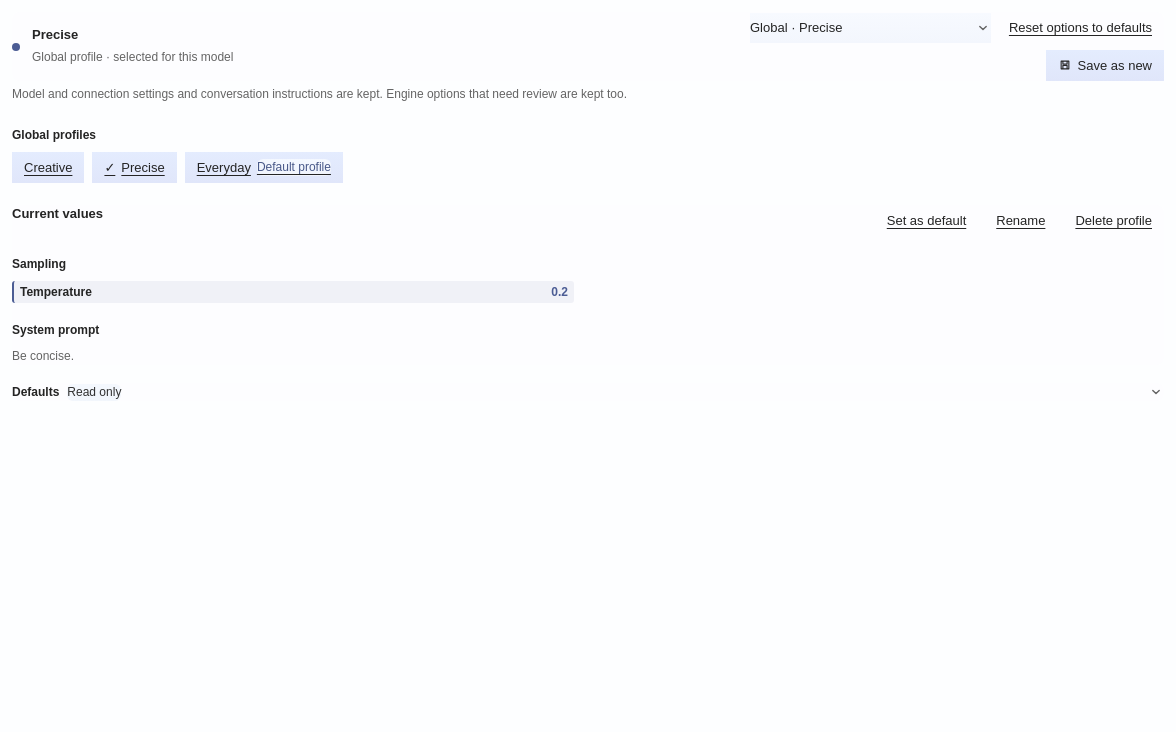
Scenario: settings profile workspace › keeps creation and profile selection distinct in every layout in en
Expected: the number of buttons "Save as new" is 1, [1046,50,1164,81]
Click the button "Creative".
click(48, 167)  # box [12,152,84,183]
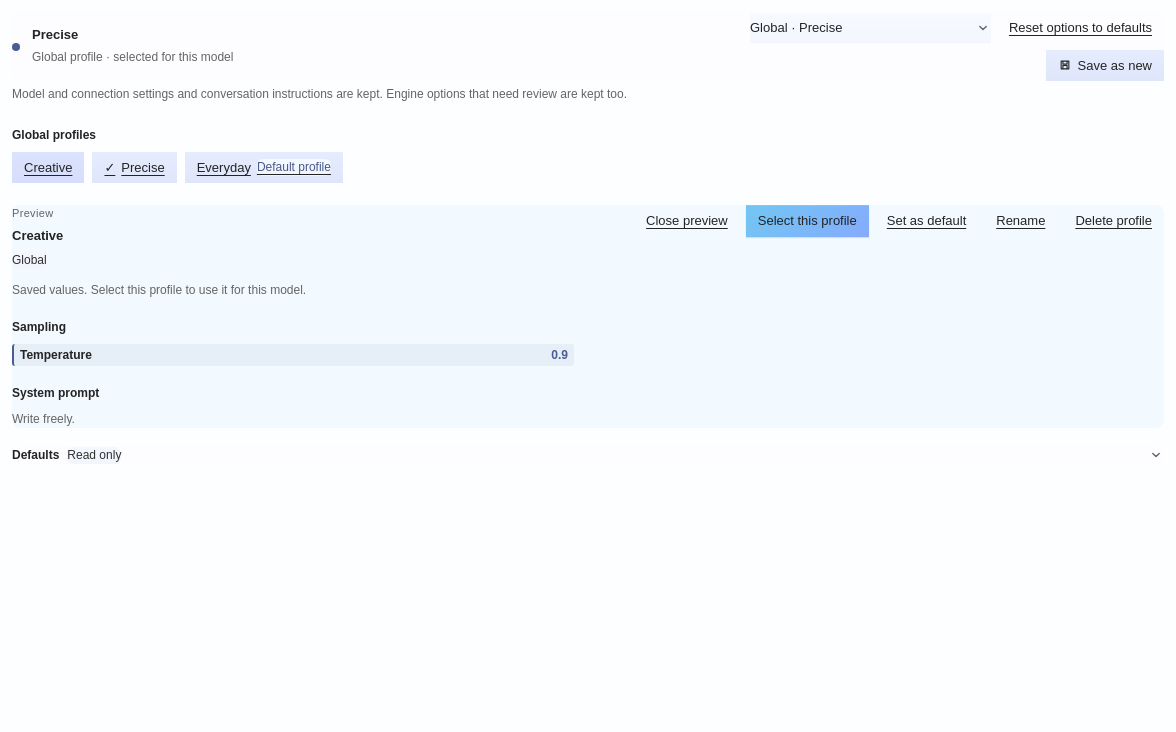
Now the button "Select this profile" is enabled, box [746,205,869,237]
Click the button "Save as new".
click(1105, 65)  # box [1046,50,1164,81]
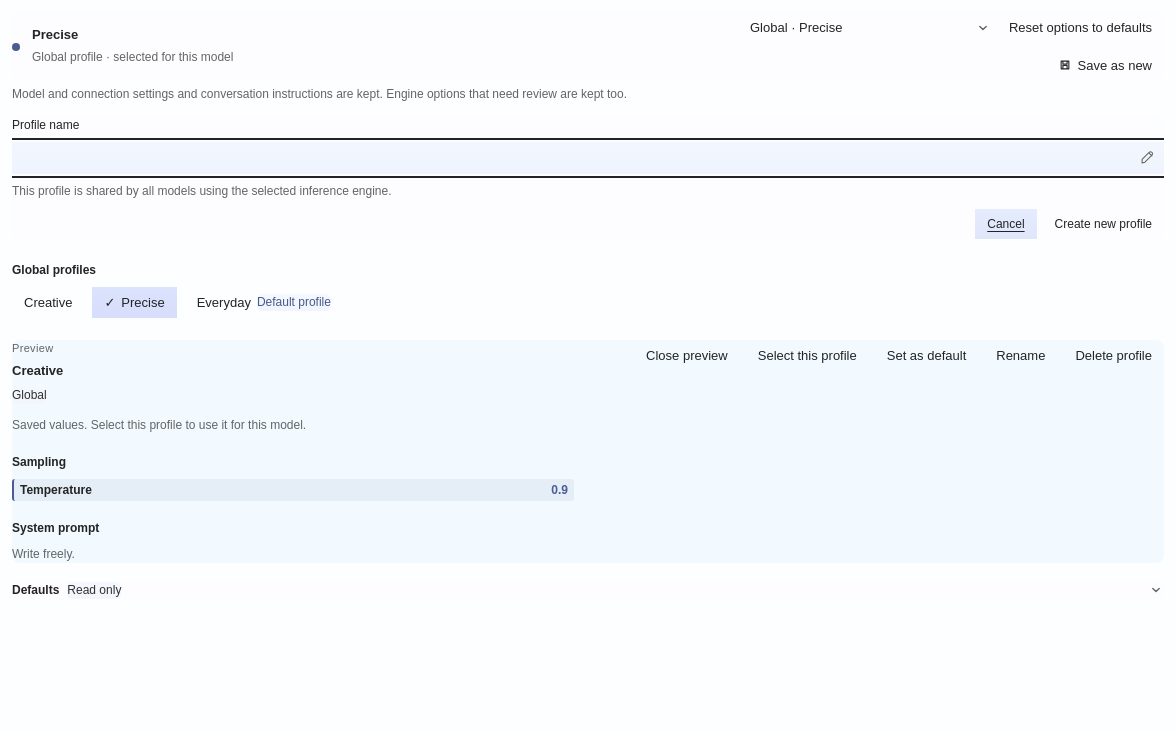
Now the button "Create new profile" is disabled, box [1043,209,1164,239]
